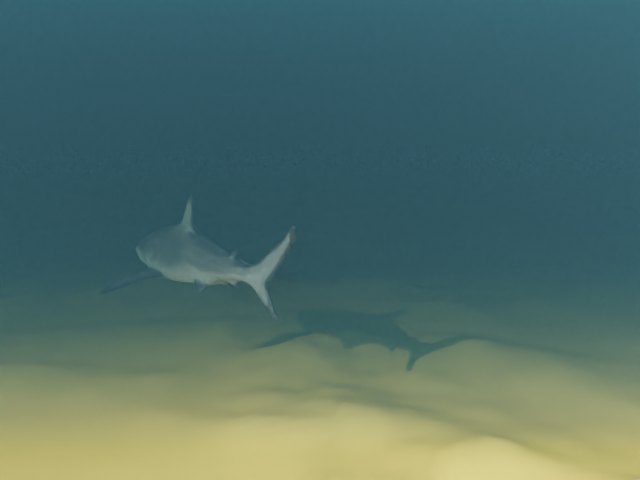Carribean Shark.001: (98, 194, 296, 319)
